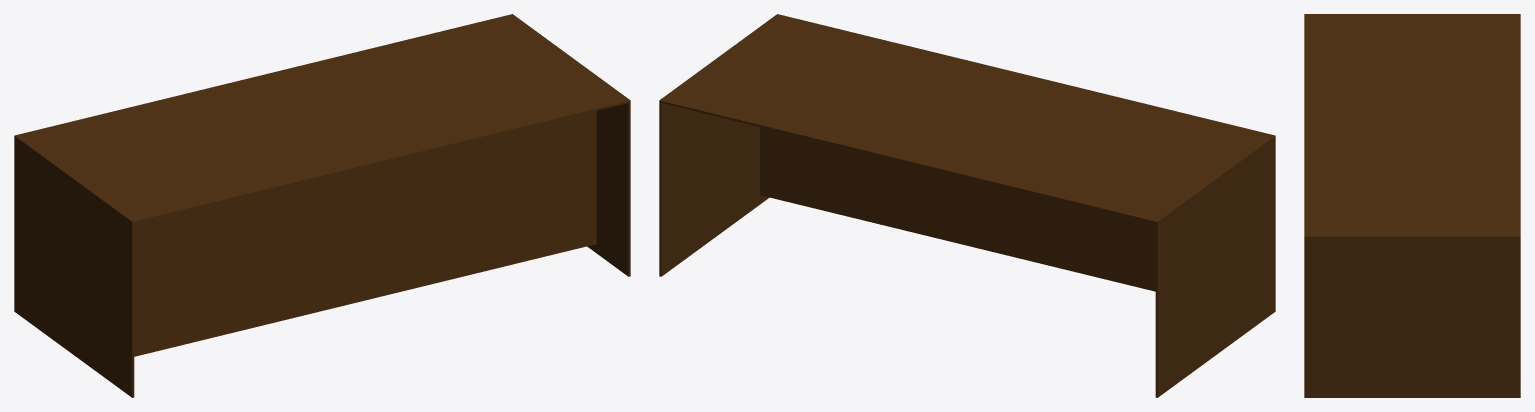
Rendered from Meja Datar.fbx.
3 views of the same model, side by side, from view 1: azimuth 30°, elevation 25°; view 2: azimuth 150°, elevation 25°; view 3: azimuth 270°, elevation 25° (orthographic). The views are drawn at different scales.
Parts seen in each view (by area): view 1: Plane.051; view 2: Plane.051; view 3: Plane.051.
Part boxes in pixels (box(x1,y1,x2,y2)): Plane.051: box(14, 14, 630, 397); Plane.051: box(659, 14, 1275, 397); Plane.051: box(1304, 14, 1520, 397).
Bounding box in the file's own units: 1970 × 665 × 808.
